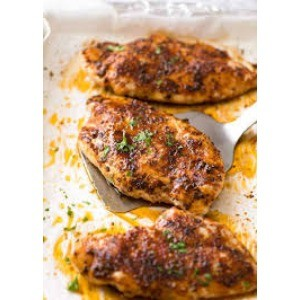chicken breast_brain food: (103, 130, 209, 190), (109, 237, 201, 284), (131, 52, 209, 92)
